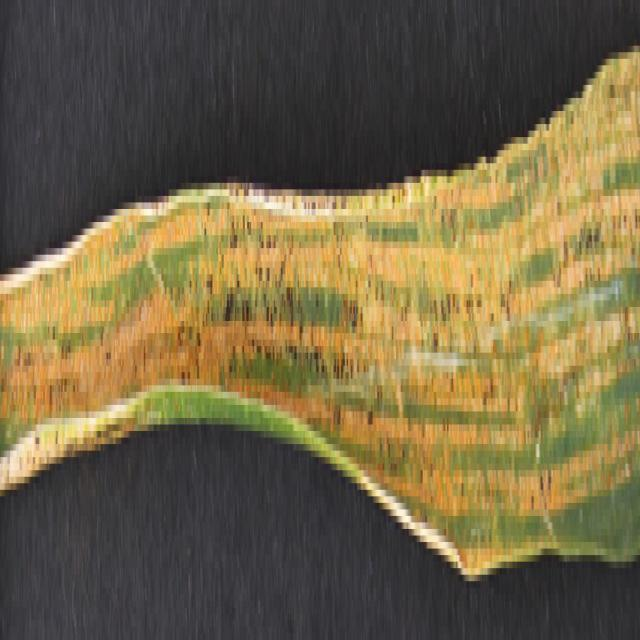leaf rust: (1, 59, 640, 509)
